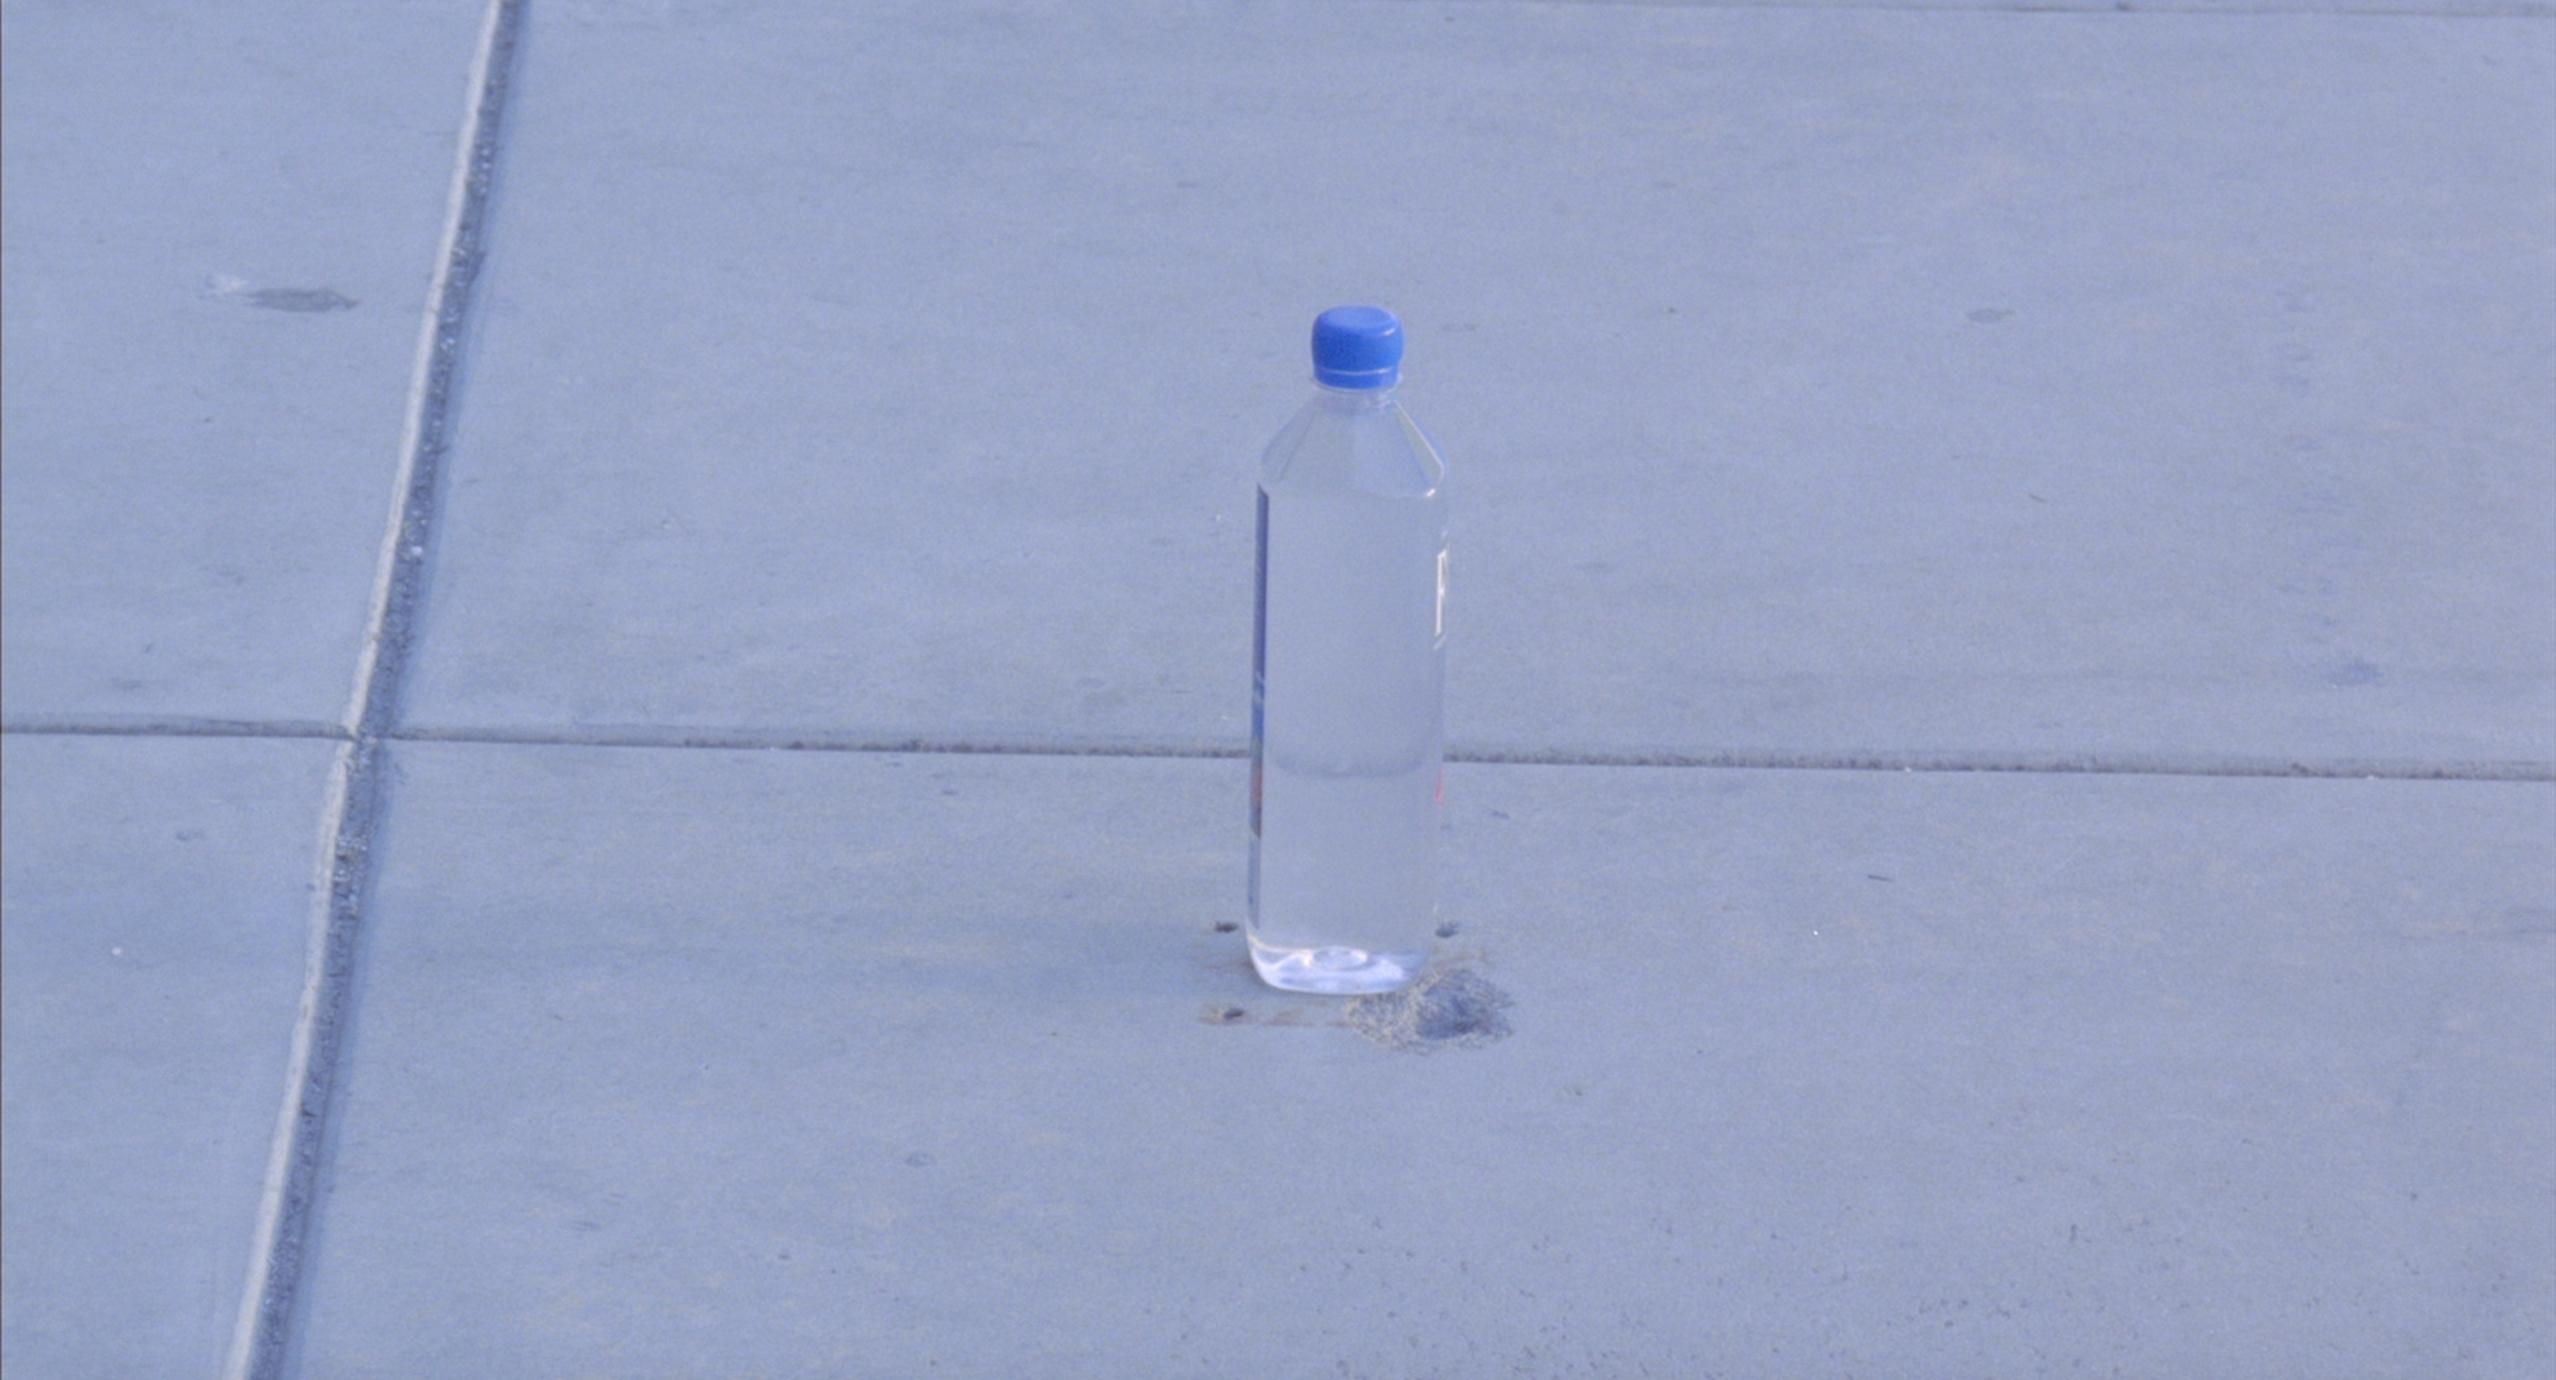bottle: (1273, 277, 1467, 1037)
